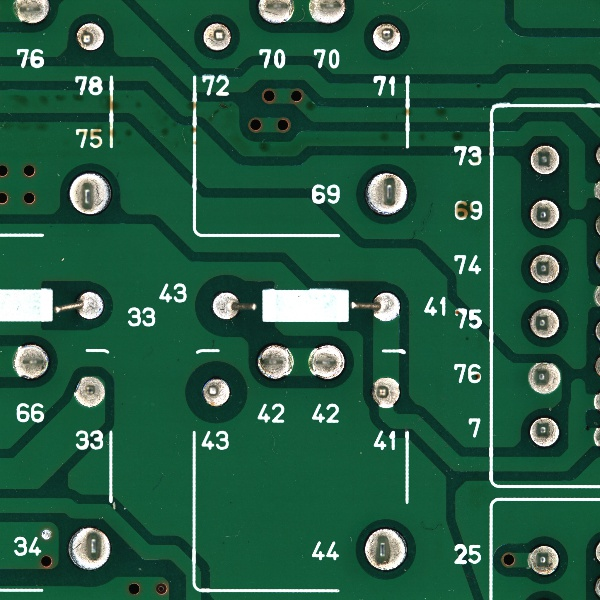Circle: (64, 168, 116, 220), (360, 169, 412, 220), (360, 524, 413, 573), (65, 523, 115, 573), (305, 339, 350, 383), (67, 284, 112, 328), (10, 340, 54, 384), (254, 340, 298, 383), (363, 287, 406, 327), (524, 357, 563, 395), (526, 539, 563, 579), (525, 195, 562, 234), (71, 373, 108, 411), (526, 305, 563, 342), (527, 141, 563, 179), (208, 287, 243, 326), (527, 413, 563, 450), (527, 250, 562, 287), (198, 374, 234, 409), (369, 375, 402, 413), (199, 20, 233, 55), (74, 19, 108, 53), (369, 20, 402, 55)
